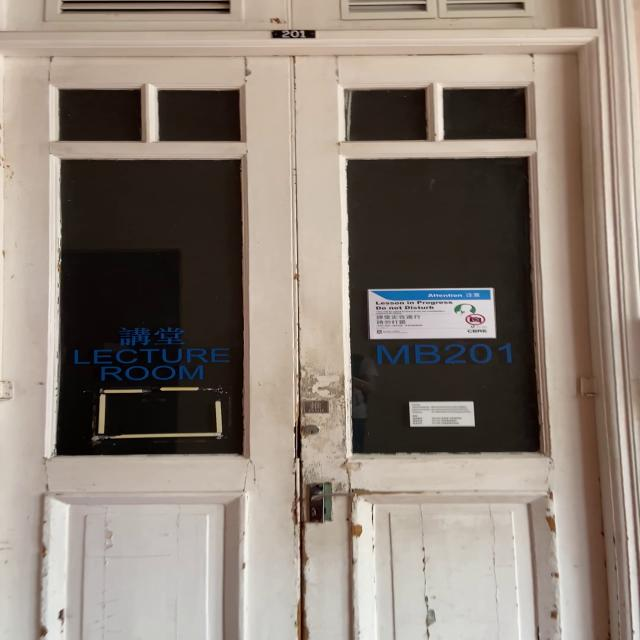room201: (267, 28, 322, 41)
room201Window: (370, 342, 524, 367)
